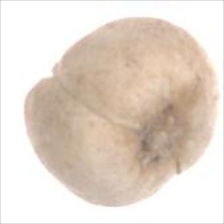L4: (23, 17, 218, 208)
